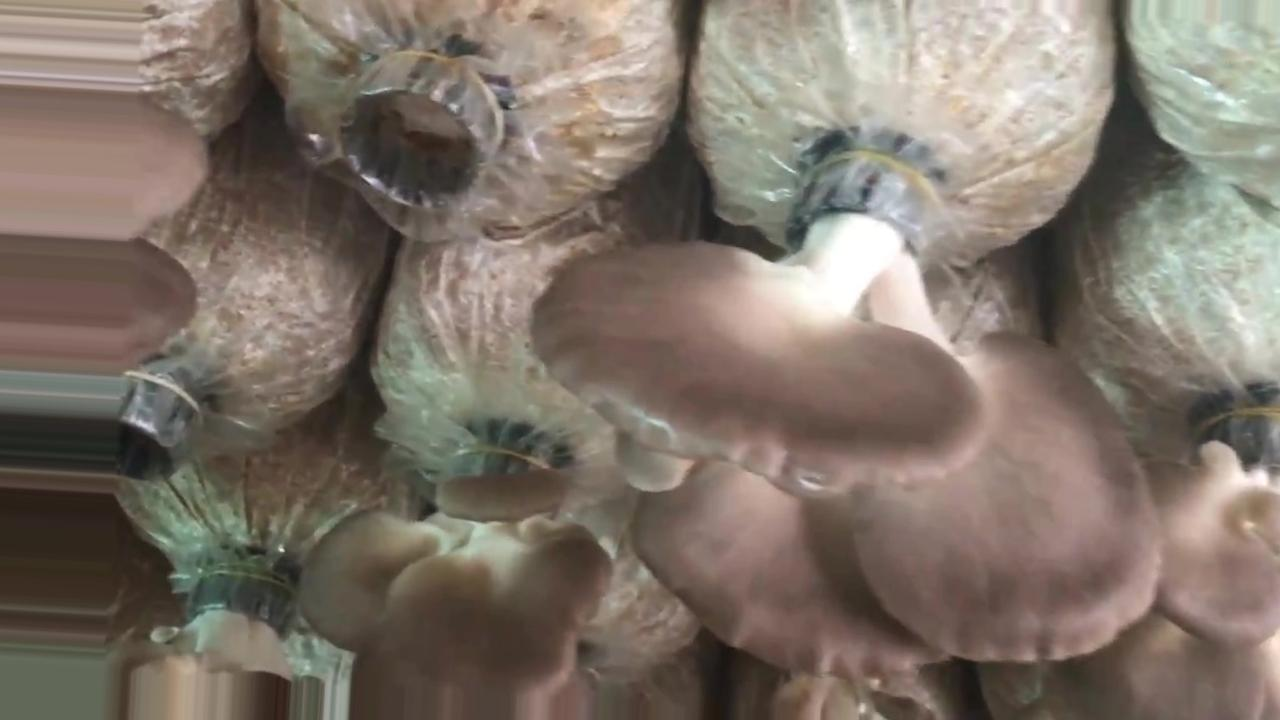nam: (530, 155, 1160, 675), (302, 461, 610, 719), (1047, 411, 1278, 720), (1, 96, 205, 371), (120, 562, 301, 720)
